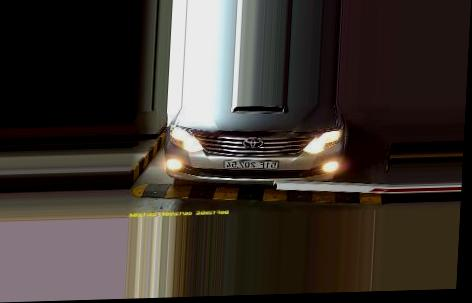License_Plate: (223, 156, 280, 169)
